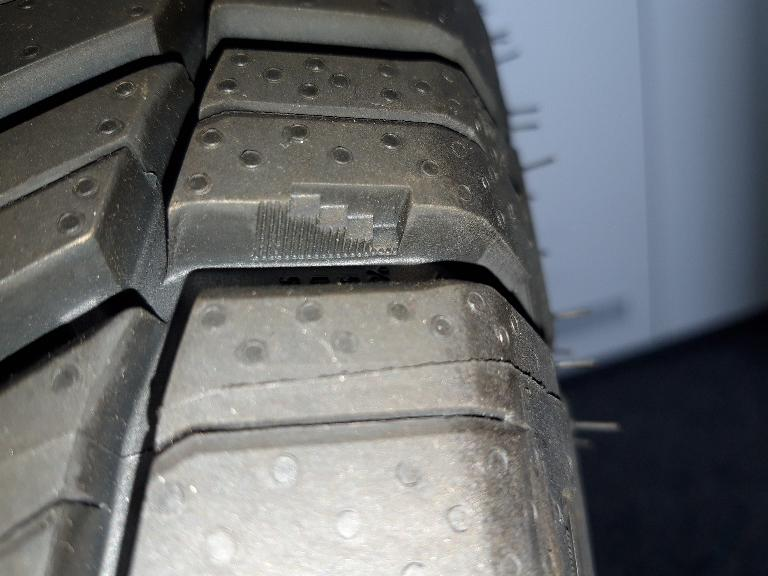temoin:100: (251, 179, 414, 262)
